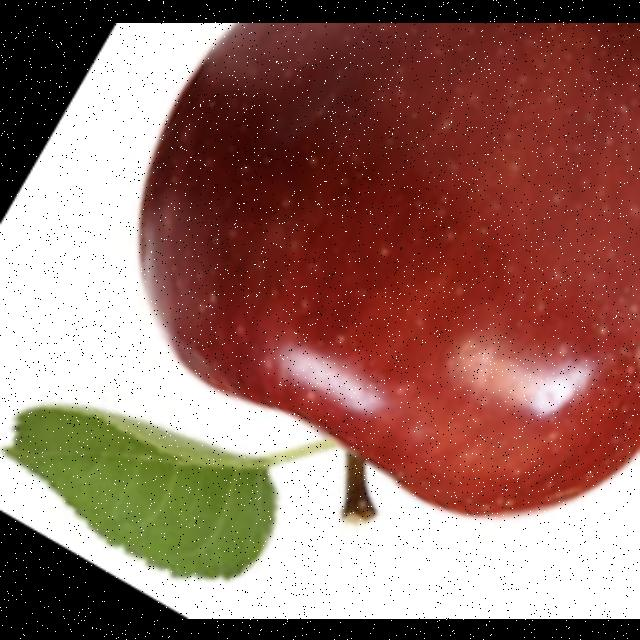Apel Segar: (126, 22, 640, 530)
